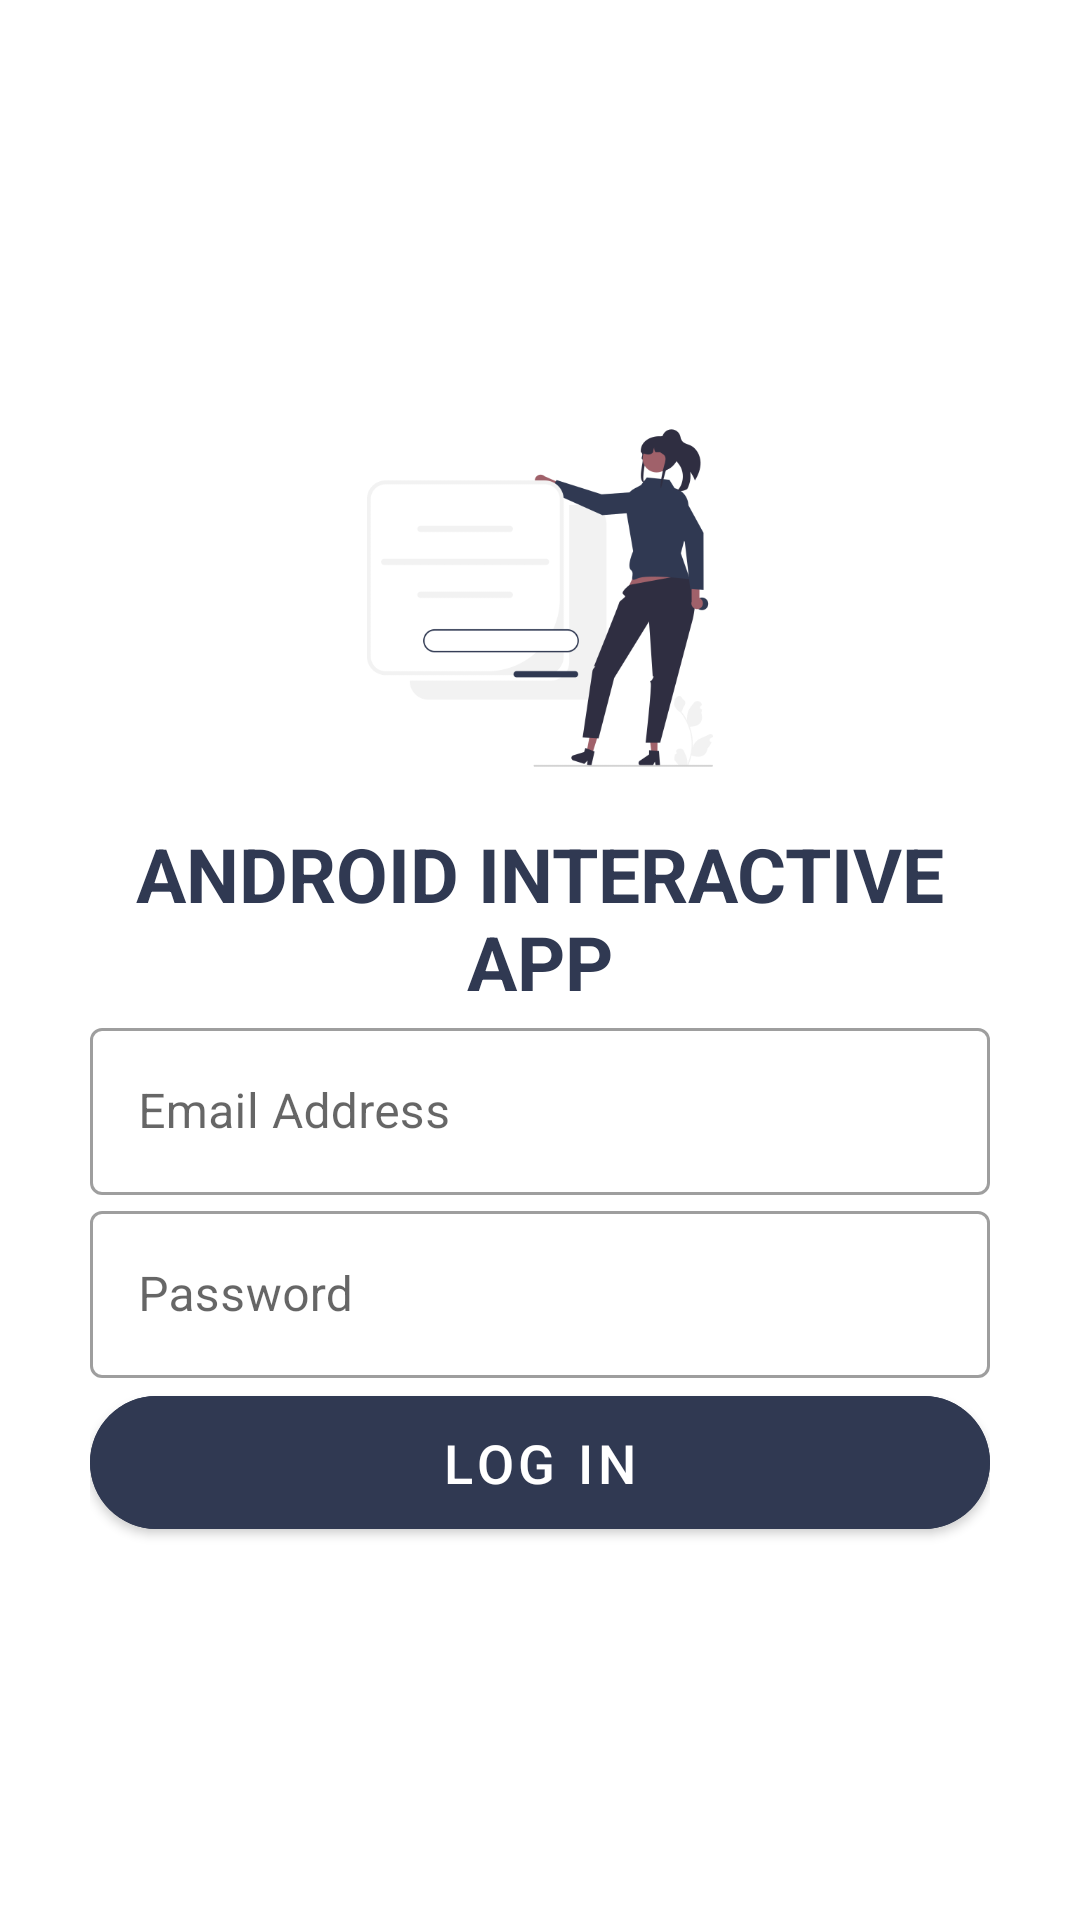

Locate icon controls on the screen. Image size 1080px×1920px, boxes as (x1=x1, y1=y1, x2=x2, y2=y2).
login: (x1=423, y1=429, x2=713, y2=767)
